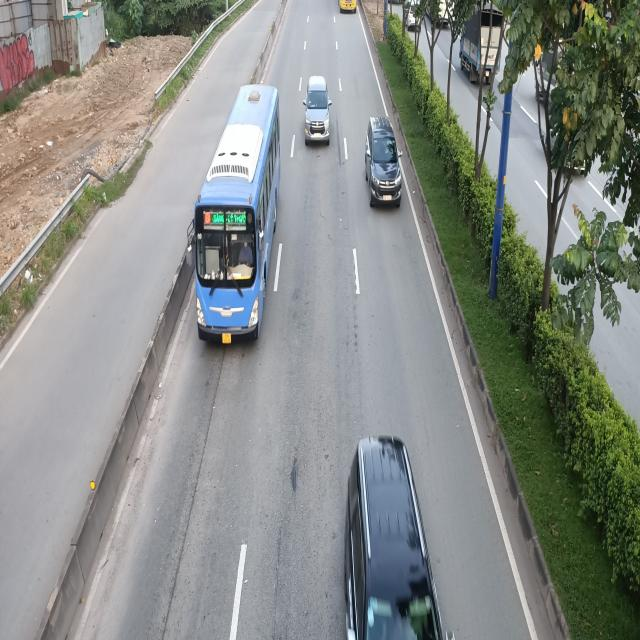car: (342, 434, 453, 640), (363, 117, 401, 210), (302, 74, 330, 144)
coach: (192, 83, 286, 341)
